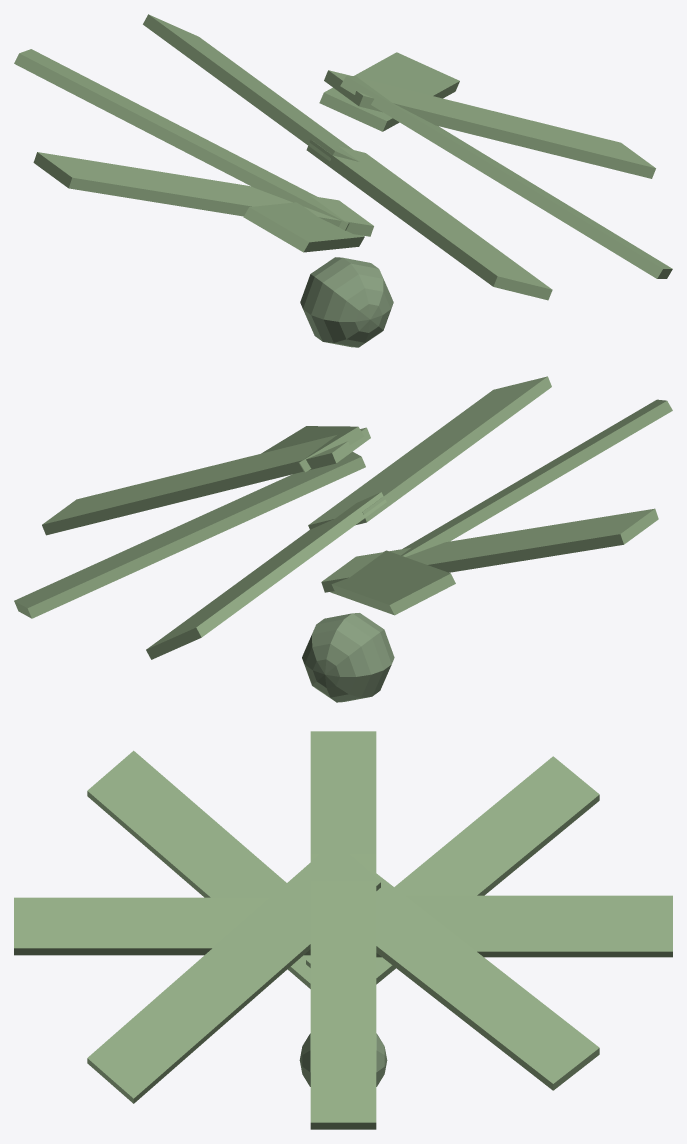
File: mdl_vegetation_fern_001.glb
3 views of the same model, one above another, from view 1: azimuth 30°, elevation 25°; view 2: azimuth 150°, elevation 25°; view 3: azimuth 270°, elevation 25° (orthographic). The views are drawn at different scales.
Visible parts, largest first — view 1: m_manigua_claro, m_musgo; view 2: m_manigua_claro, m_musgo; view 3: m_manigua_claro, m_musgo.
Boxes of the visible parts, x1,y1,x2,y2 form: m_manigua_claro: [14, 14, 672, 300]; m_musgo: [300, 257, 393, 347]; m_manigua_claro: [14, 376, 672, 659]; m_musgo: [302, 613, 394, 702]; m_manigua_claro: [14, 731, 672, 1129]; m_musgo: [299, 1033, 387, 1086].
Bounding box in the file's own units: 0.8697 × 0.386 × 0.9027.
